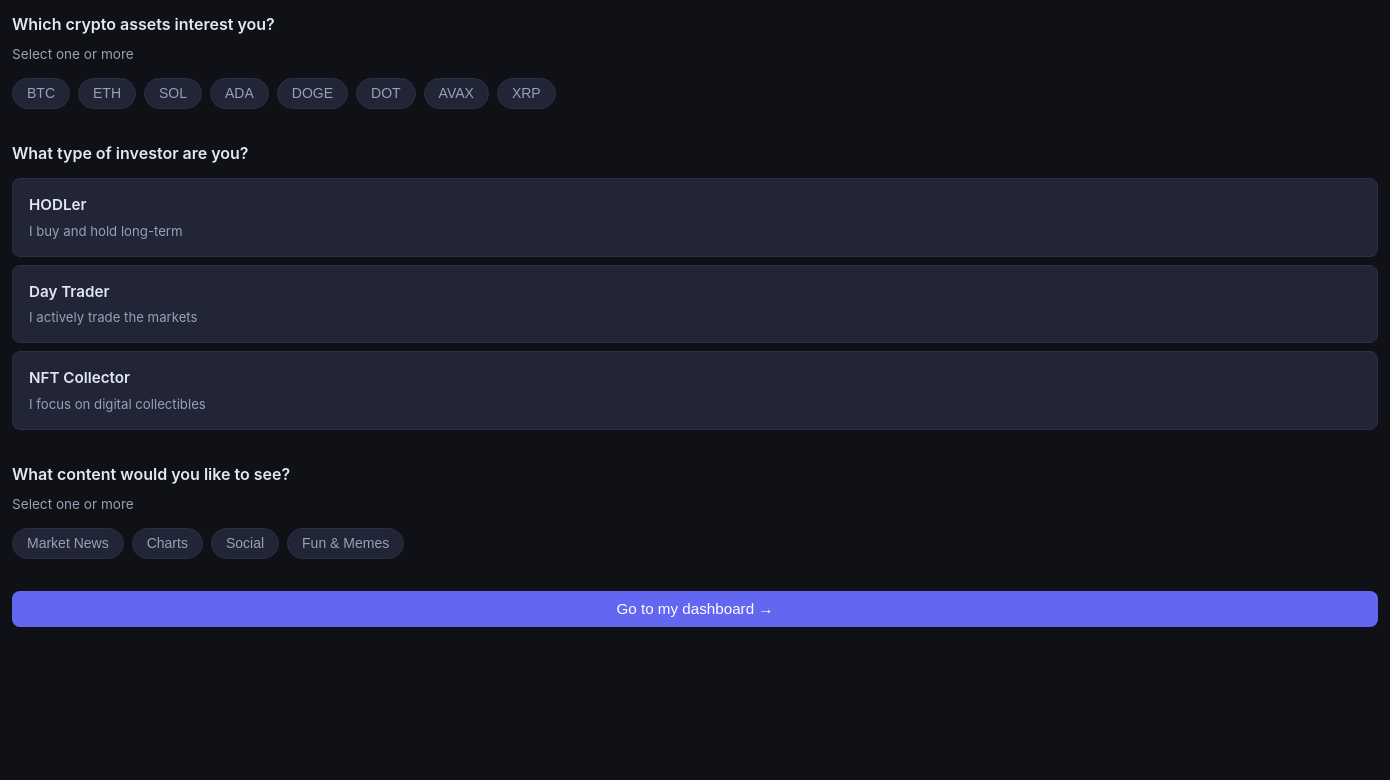
OnboardingForm › shows validation error when no coin is selected
The width and height of the screenshot is (1390, 780).
Click the button "Go to my dashboard →" at (695, 609), box [12,590,1378,627]
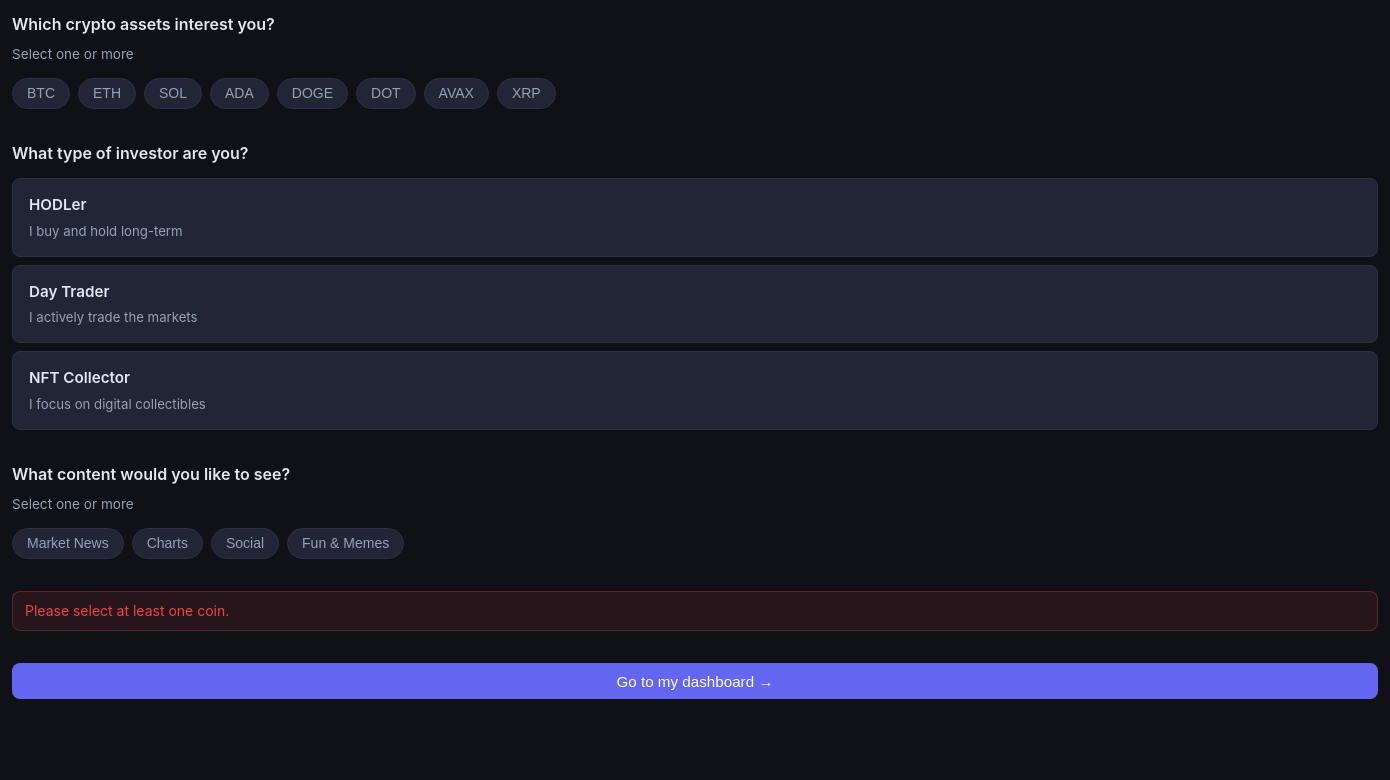
Expected: the text "Please select at least one coin." is shown, [12,590,1378,631]
